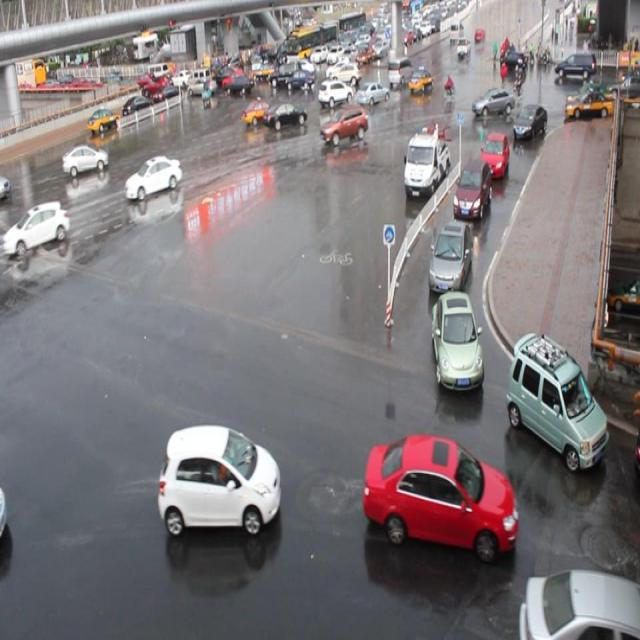bus: (402, 133, 450, 199)
car: (361, 432, 518, 560), (506, 329, 607, 471), (157, 421, 282, 532), (516, 569, 640, 640), (430, 288, 483, 390), (426, 218, 472, 294), (1, 203, 69, 253), (126, 153, 183, 200), (450, 156, 490, 221), (320, 103, 367, 144), (65, 142, 109, 174), (511, 102, 546, 142), (478, 132, 508, 178), (471, 88, 513, 116), (263, 100, 306, 126), (317, 77, 352, 108), (356, 80, 390, 107), (242, 98, 274, 122)
